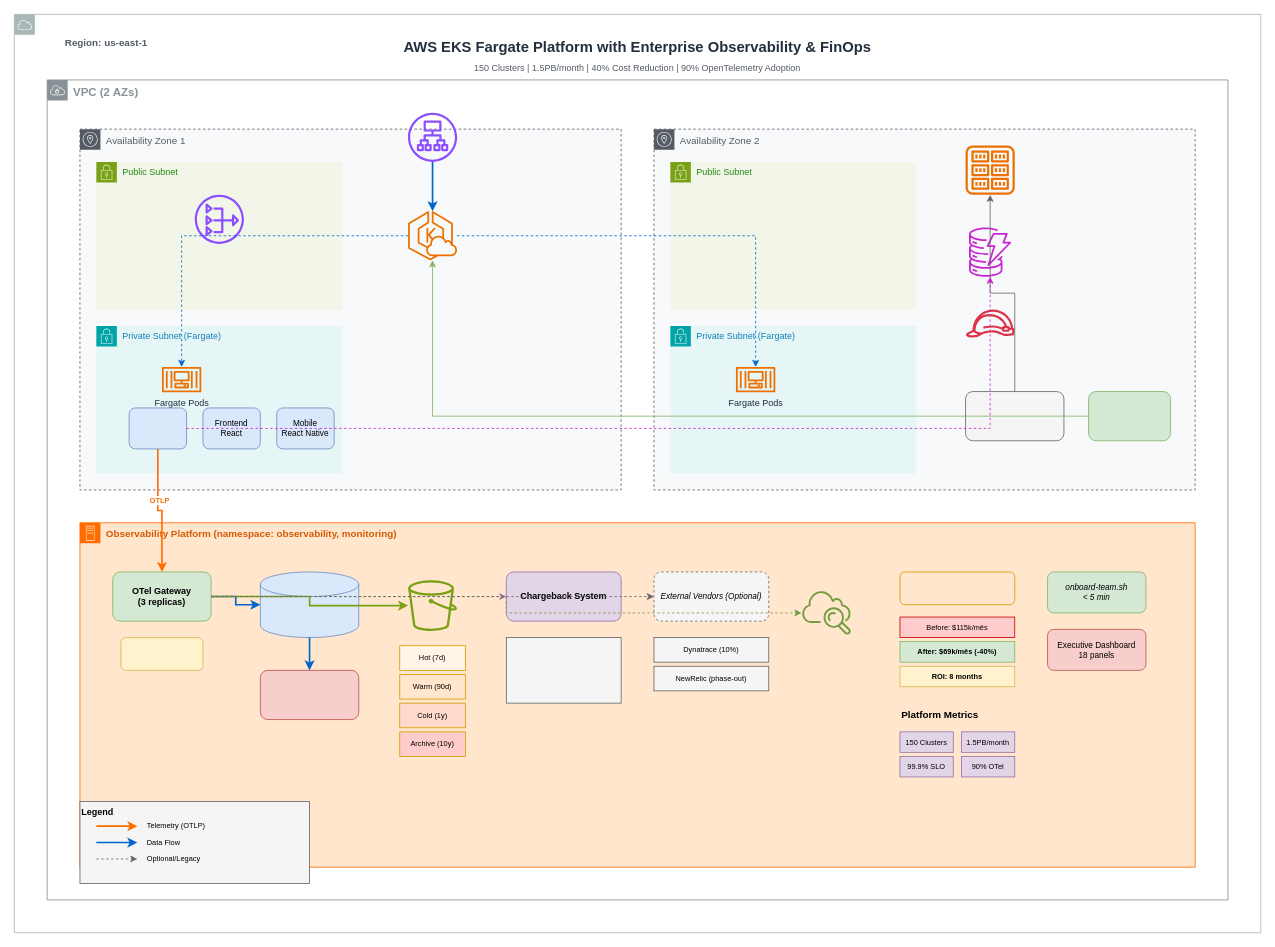
This 1275x947 diagram has some shape labels left out. The centre of each missing label's shape, as x and y in pixels:
Amazon EKS Cluster: (432,235)
Application Load Balancer: (432,137)
Argo CD GitOps: (1129,416)
Backend Node.js: (157,428)
CloudWatch: (825,612)
Cost per Team $0.10/GB logs $2/M spans $0.001/series: (563,670)
DynamoDB orders table: (989,251)
ECR: (989,169)
FinOps Metrics: (957,588)
GitHub Actions CI/CD: (1014,416)
Grafana: (309,695)
IAM OIDC Provider (IRSA): (989,323)
NAT Gateway: (219,219)
PII Masking 6 patterns: (161,653)
S3 Storage Tiering: (432,605)
Victoria Metrics Cluster: (309,604)
